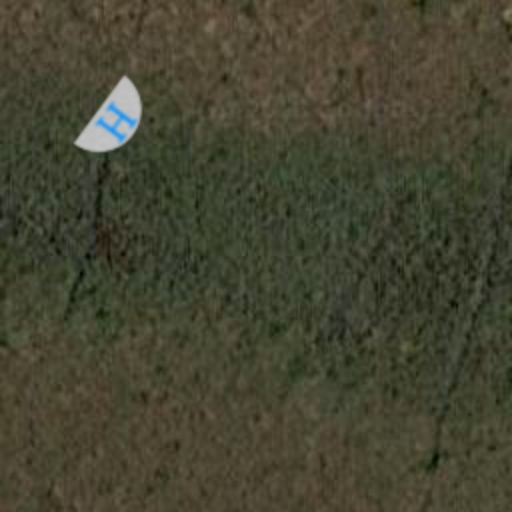semicircle: (56, 62, 176, 182)
